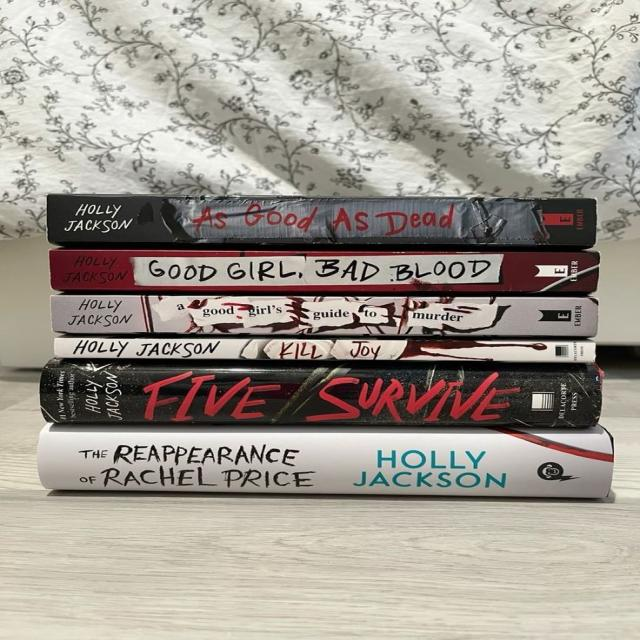book: (37, 422, 615, 498), (40, 358, 600, 429), (49, 196, 596, 251), (50, 248, 598, 294), (51, 294, 597, 338), (55, 337, 594, 363)
